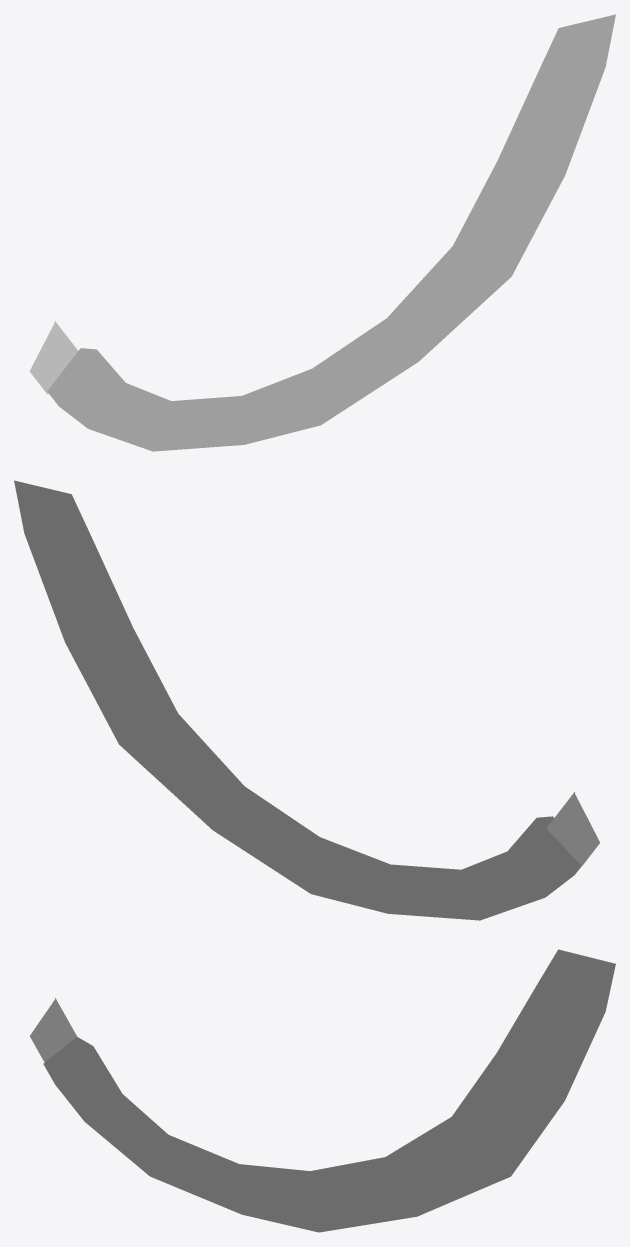
File: Violinista_Mascara_01.fbx
3 views of the same model, one above another, from view 1: azimuth 30°, elevation 25°; view 2: azimuth 150°, elevation 25°; view 3: azimuth 330°, elevation 25° (orthographic).
Parts seen in each view (by area): view 1: Violinista_Mascara_01; view 2: Violinista_Mascara_01; view 3: Violinista_Mascara_01.
Boxes of the visible parts, bbox=[...] form: Violinista_Mascara_01: bbox=[29, 14, 615, 451]; Violinista_Mascara_01: bbox=[14, 480, 599, 920]; Violinista_Mascara_01: bbox=[30, 949, 615, 1232].
Bounding box in the file's own units: 2913 × 1578 × 17.08.
